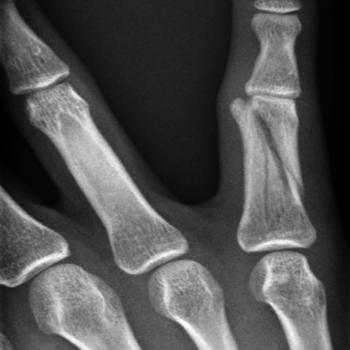Fracture: (233, 106, 311, 216)
